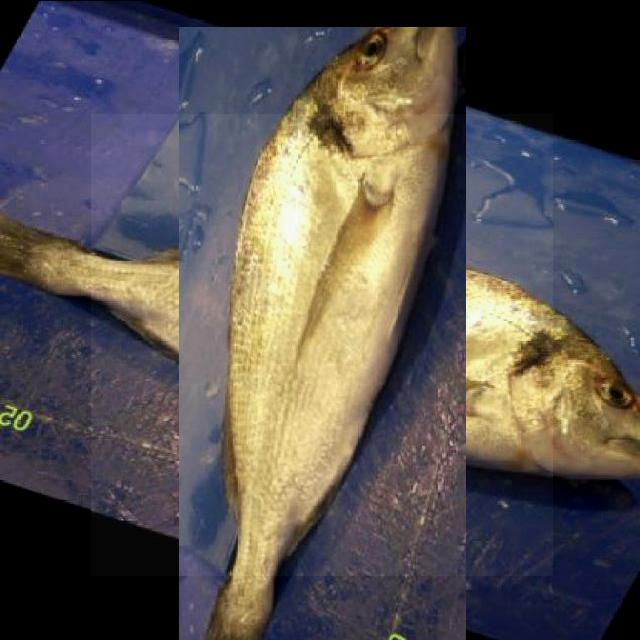Healthy Fish: (91, 112, 553, 574)
